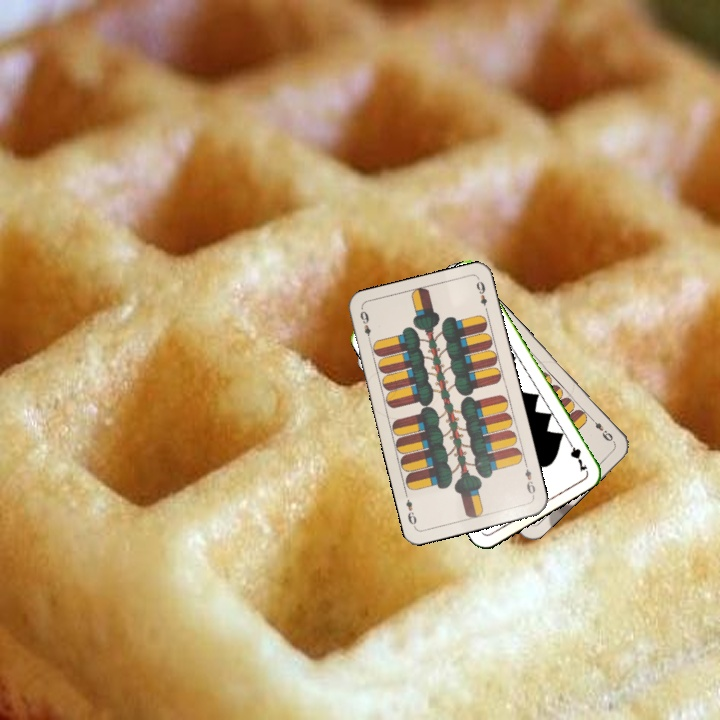E9: (586, 412, 617, 445), (356, 307, 374, 346), (521, 459, 538, 499)
G7: (563, 435, 590, 474)
